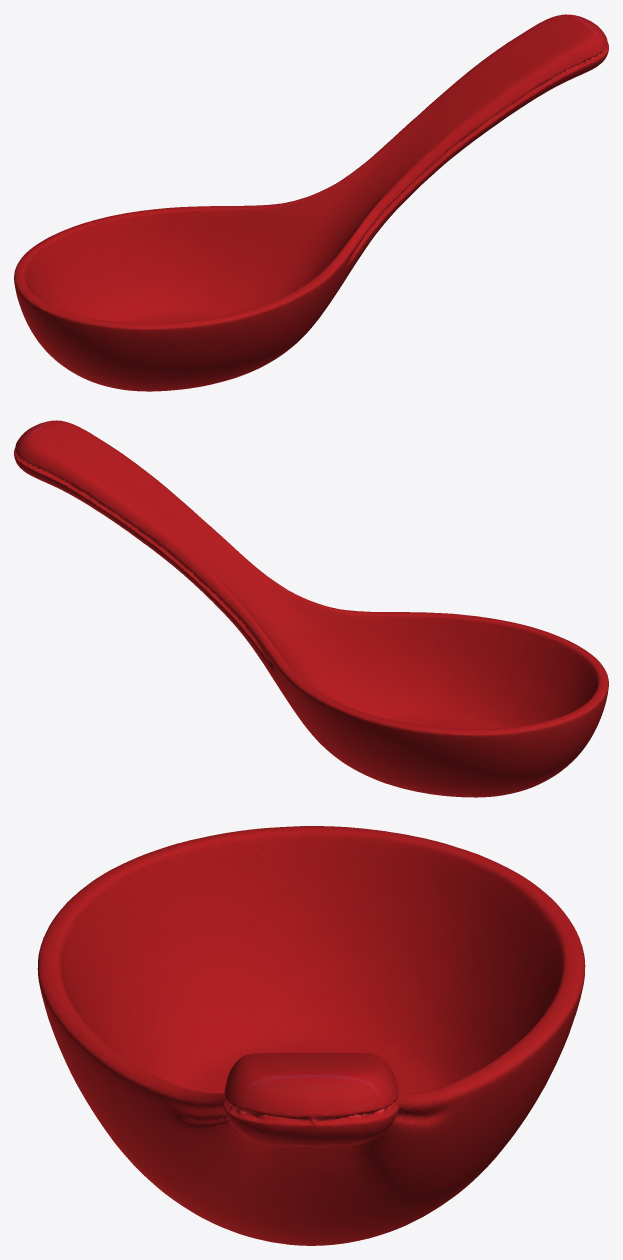
The model's file is spoon.fbx.
3 renders of one model, top to bottom at view 1: azimuth 30°, elevation 25°; view 2: azimuth 150°, elevation 25°; view 3: azimuth 270°, elevation 25°, orthographic. The views are drawn at different scales.
Visible parts, largest first — view 1: Mesh_0; view 2: Mesh_0; view 3: Mesh_0.
Part boxes in pixels (bbox=[...]): Mesh_0: bbox=[14, 14, 608, 391]; Mesh_0: bbox=[14, 420, 608, 797]; Mesh_0: bbox=[37, 826, 585, 1245].
Size of the model in its own units: 190 by 80.59 by 78.79.
Materials: 1 (1 with a texture image).
